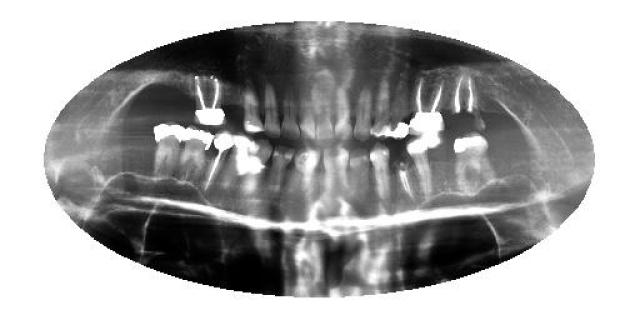Cavity: (446, 72, 485, 132), (392, 152, 416, 202)
Fillings: (146, 122, 185, 178), (454, 134, 490, 194), (410, 80, 441, 132), (182, 126, 212, 179), (388, 75, 408, 139)
Implant: (201, 131, 235, 195), (192, 74, 228, 126)
